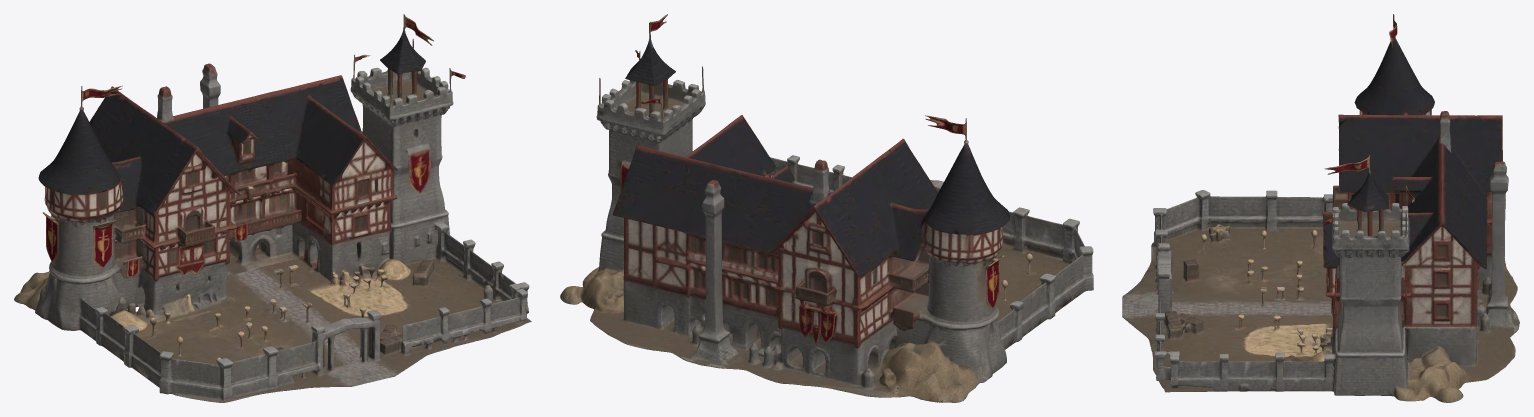
The model's file is schwertschule.glb.
3 views of the same model, side by side, from view 1: azimuth 30°, elevation 25°; view 2: azimuth 150°, elevation 25°; view 3: azimuth 270°, elevation 25° (orthographic). The views are drawn at different scales.
Size of the model in its own units: 1.9 by 1.11 by 1.74.
Materials: 1 (1 with a texture image).
